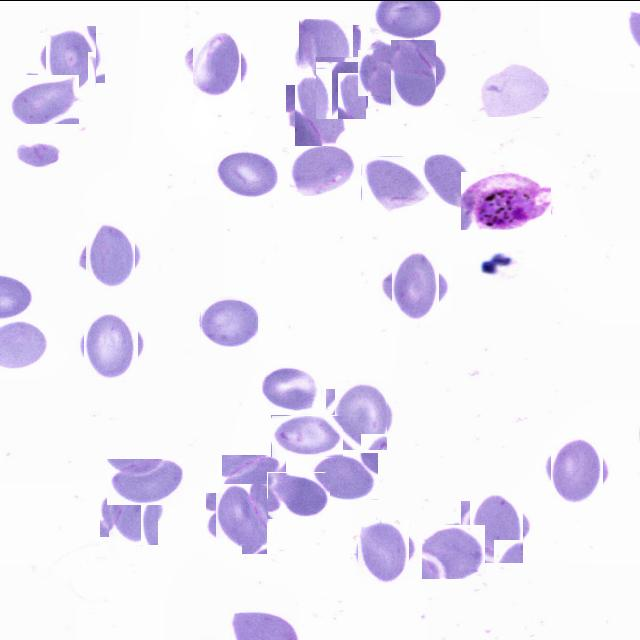red blood cell: (476, 64, 555, 116), (466, 495, 528, 558), (331, 383, 392, 445), (296, 21, 358, 82), (210, 488, 272, 548), (290, 80, 352, 140), (222, 454, 286, 512), (81, 315, 141, 375), (386, 256, 446, 316), (107, 458, 184, 504), (81, 226, 140, 286), (354, 520, 413, 580), (289, 142, 355, 195), (187, 34, 246, 93), (9, 74, 79, 123), (42, 28, 101, 86), (548, 439, 606, 498), (422, 524, 485, 578), (104, 482, 162, 540), (384, 44, 442, 102), (362, 44, 420, 100), (309, 452, 378, 499), (215, 146, 278, 197), (361, 155, 425, 205), (314, 58, 369, 115), (271, 414, 343, 456), (267, 471, 330, 518), (200, 295, 258, 346), (422, 151, 473, 208), (262, 365, 321, 413)
trophozoite: (461, 171, 551, 229)
